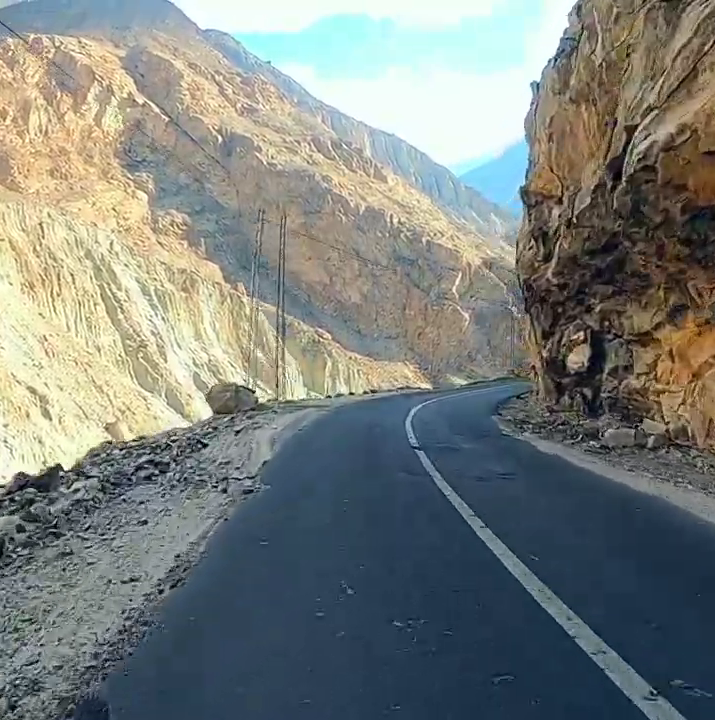stright: (309, 353, 556, 595)
